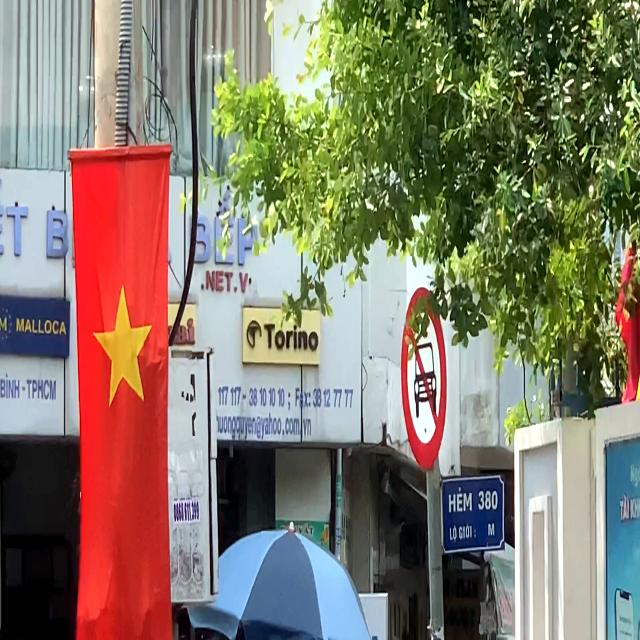P.103a: (402, 287, 447, 471)
